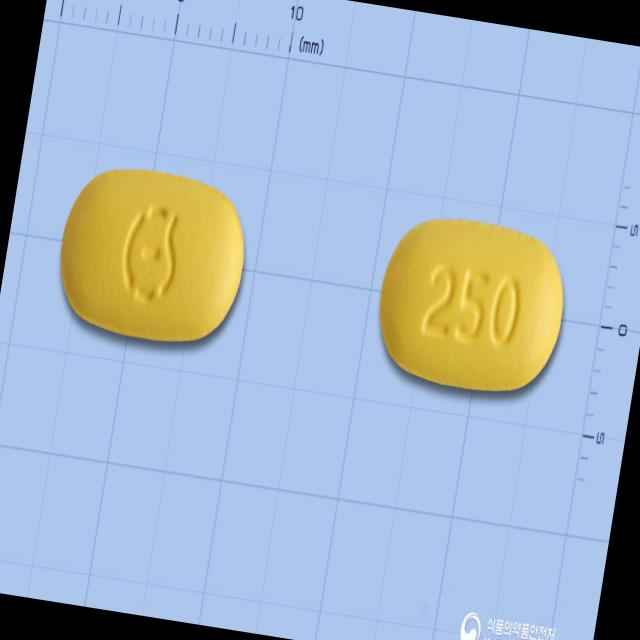Clarione -500mg: (46, 152, 262, 362), (364, 202, 580, 410)
